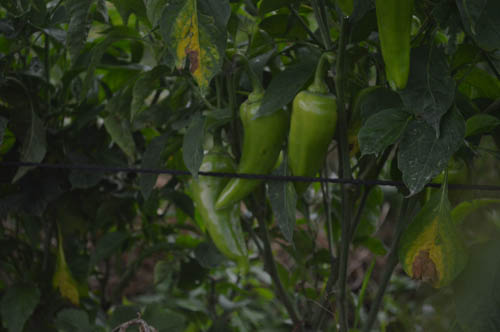ChiliPepper: (218, 103, 286, 211), (284, 93, 336, 188), (200, 157, 244, 256), (375, 4, 410, 86)
